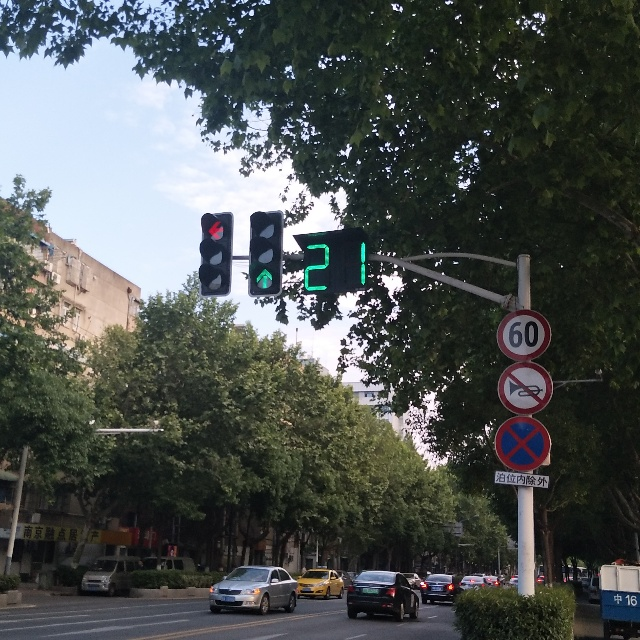nohonk: (496, 361, 551, 414)
stop: (494, 420, 551, 471)
